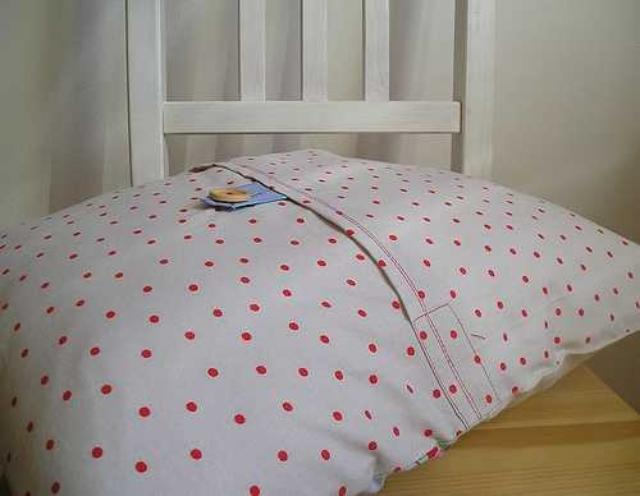pillow: (0, 147, 638, 496)
